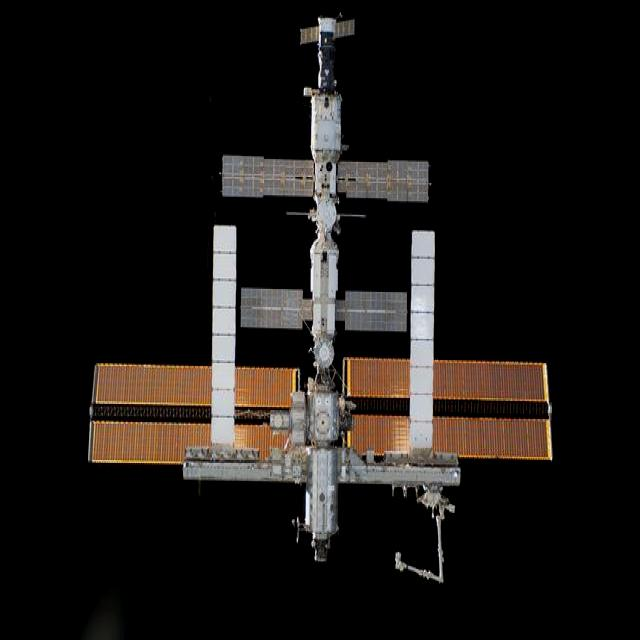satellite: (90, 17, 551, 582)
